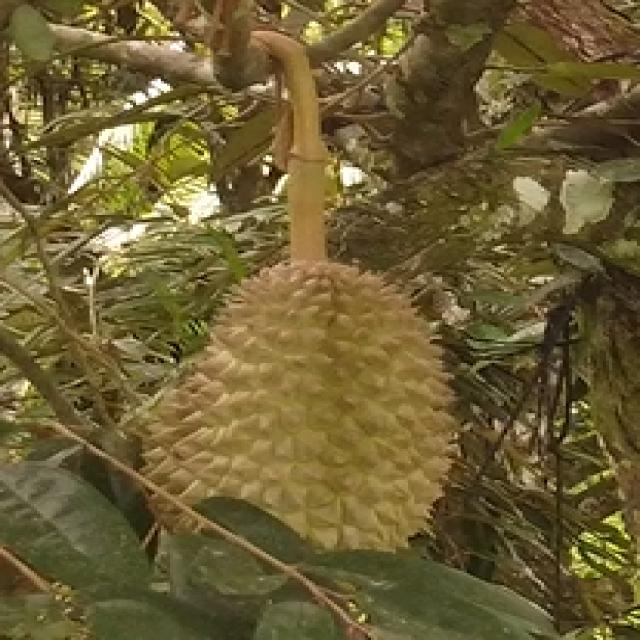mature: (177, 253, 464, 578)
